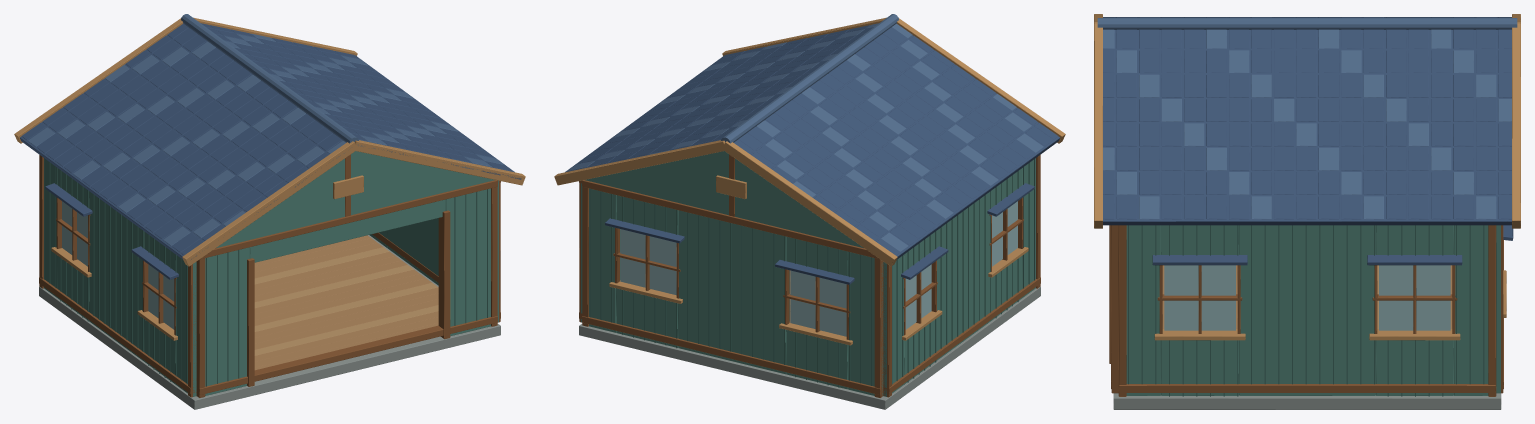
The model's file is AR_Workshop.glb.
3 renders of one model, left to right at view 1: azimuth 30°, elevation 25°; view 2: azimuth 150°, elevation 25°; view 3: azimuth 270°, elevation 25°, orthographic. The views are drawn at different scales.
Visible parts, largest first — view 1: AR_Workshop_Roof_LOD0, AR_Workshop_South_LOD0, AR_Workshop_Floor_LOD0, AR_Workshop_West_LOD0, AR_Workshop_East_LOD0; view 2: AR_Workshop_Roof_LOD0, AR_Workshop_North_LOD0, AR_Workshop_West_LOD0, AR_Workshop_Floor_LOD0, AR_Workshop_East_LOD0; view 3: AR_Workshop_Roof_LOD0, AR_Workshop_East_LOD0, AR_Workshop_Floor_LOD0, AR_Workshop_North_LOD0, AR_Workshop_South_LOD0.
Part boxes in pixels (left/top/right/bottom): AR_Workshop_Roof_LOD0: left=14, top=14, right=525, bottom=266; AR_Workshop_South_LOD0: left=196, top=151, right=497, bottom=397; AR_Workshop_Floor_LOD0: left=39, top=235, right=500, bottom=409; AR_Workshop_West_LOD0: left=39, top=155, right=196, bottom=397; AR_Workshop_East_LOD0: left=369, top=180, right=500, bottom=322; AR_Workshop_Roof_LOD0: left=554, top=14, right=1065, bottom=266; AR_Workshop_North_LOD0: left=582, top=151, right=883, bottom=397; AR_Workshop_West_LOD0: left=883, top=155, right=1040, bottom=397; AR_Workshop_Floor_LOD0: left=579, top=270, right=1040, bottom=409; AR_Workshop_East_LOD0: left=579, top=180, right=582, bottom=322; AR_Workshop_Roof_LOD0: left=1094, top=14, right=1520, bottom=228; AR_Workshop_East_LOD0: left=1118, top=225, right=1496, bottom=396; AR_Workshop_Floor_LOD0: left=1113, top=265, right=1501, bottom=409; AR_Workshop_North_LOD0: left=1496, top=225, right=1513, bottom=393; AR_Workshop_South_LOD0: left=1109, top=225, right=1118, bottom=393.
Bounding box in the file's own units: 6.61 × 4.45 × 5.77.
1 material, 1 textured.
